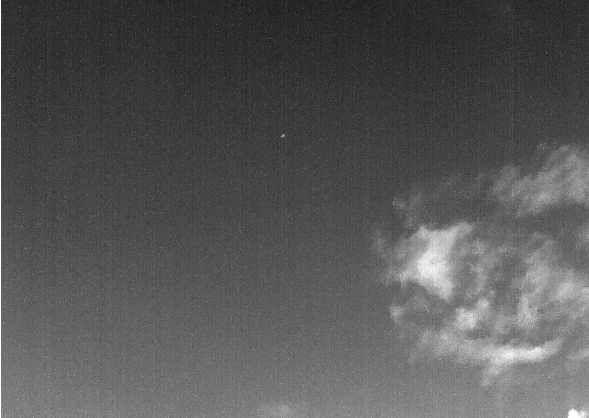dim target: (280, 133, 285, 139)
